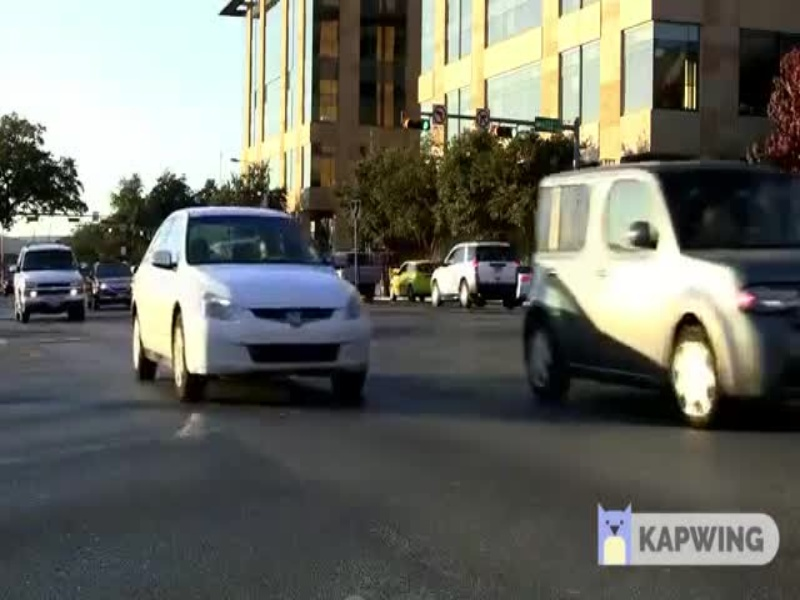car: (127, 201, 382, 430)
suv: (498, 152, 800, 411), (1, 224, 92, 325)
